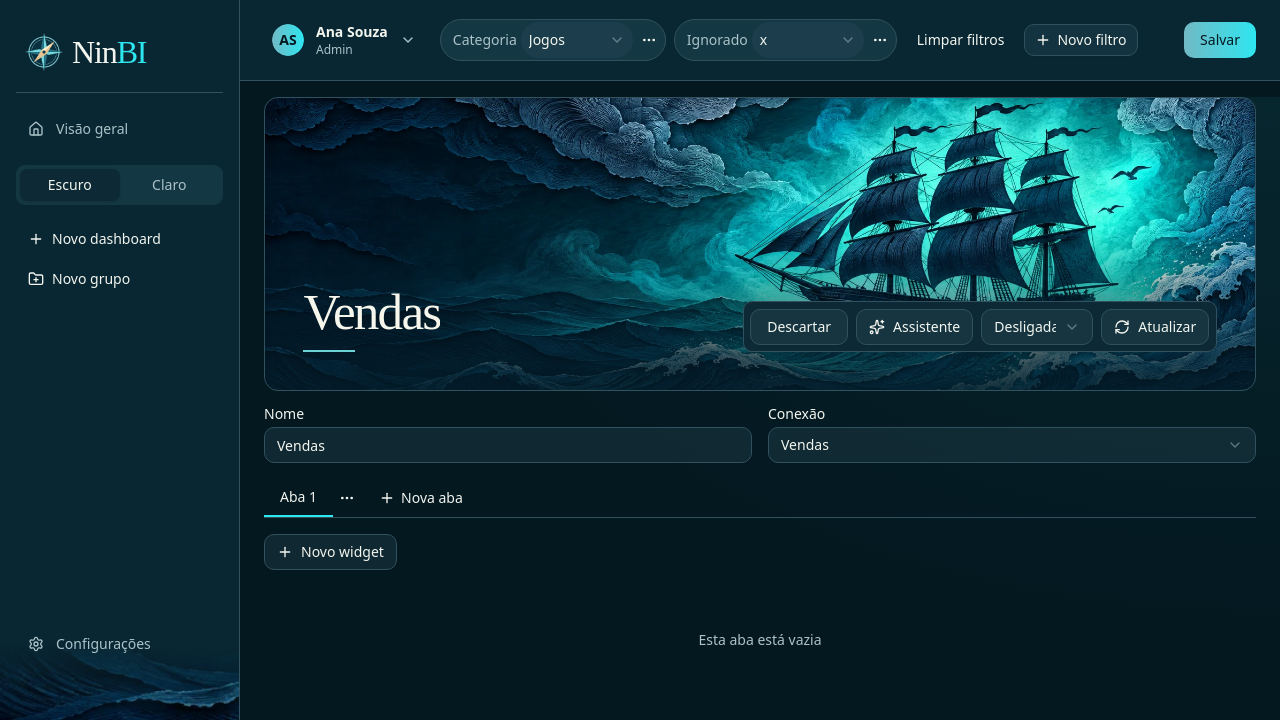
Scenario: WidgetEditorDialog por tipo de conexão › SQX-02 editor de conexão Neo4j mostra Consulta Cypher
The image size is (1280, 720).
Click the button "Novo widget".
click(330, 552)  # box left=264, top=534, right=397, bottom=570
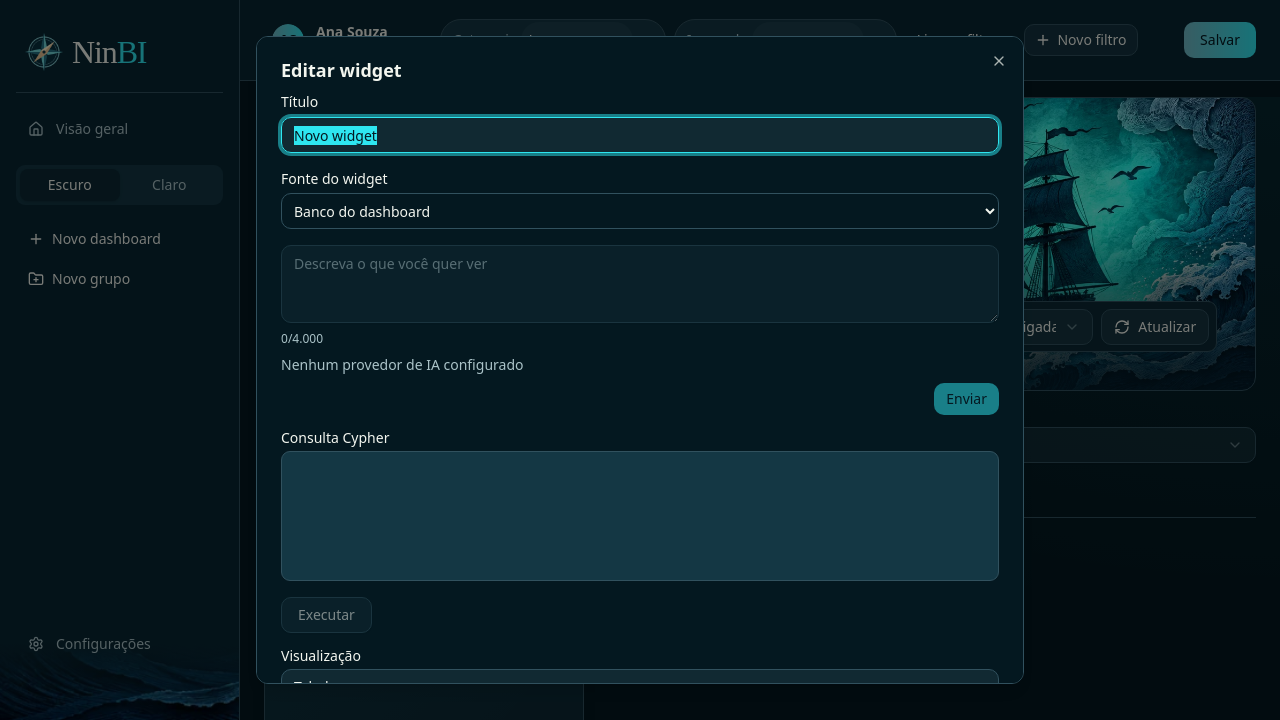
Expected: the text box labelled "Consulta Cypher" is shown, left=282, top=452, right=998, bottom=580
